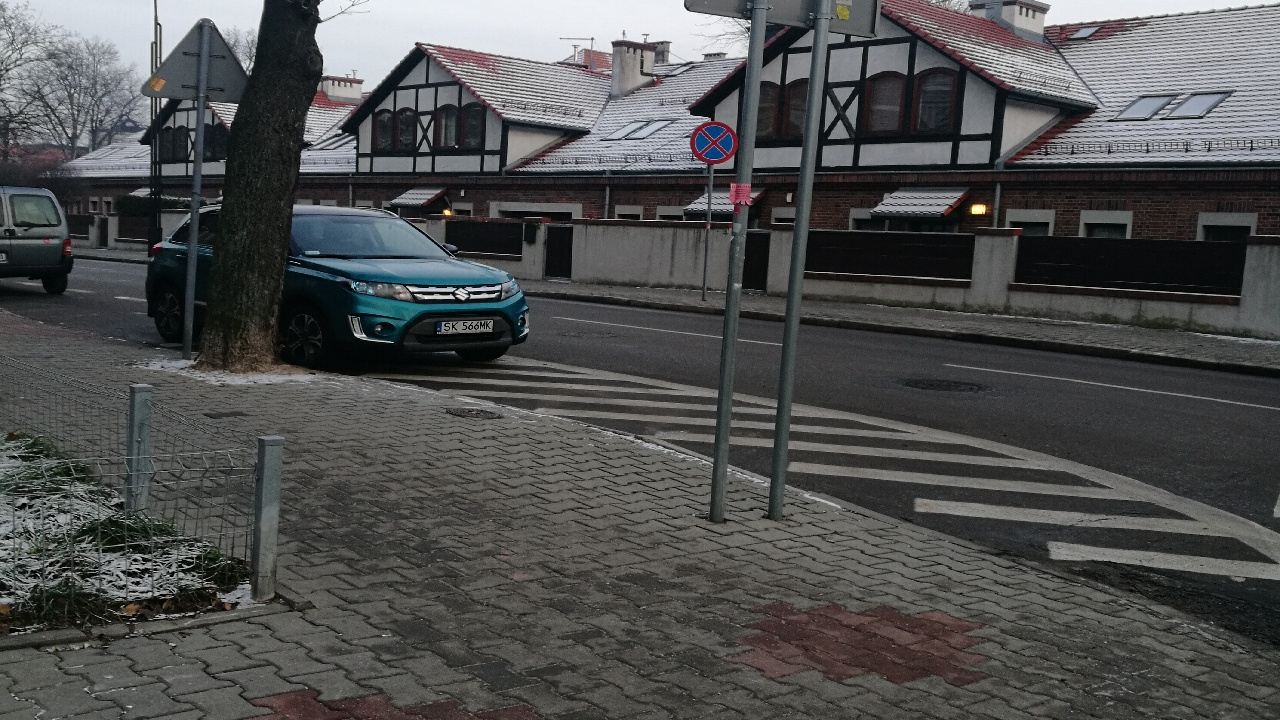B35: (687, 119, 740, 167)
